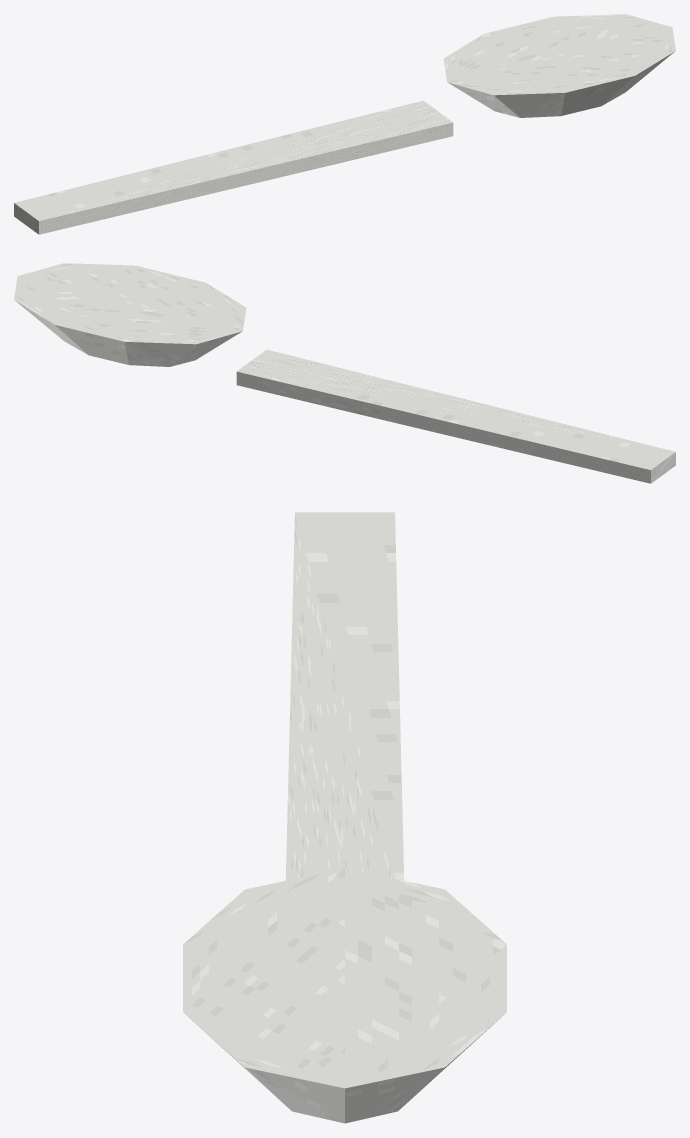
Rendered from plastic_spoon.glb.
3 renders of one model, top to bottom at view 1: azimuth 30°, elevation 25°; view 2: azimuth 150°, elevation 25°; view 3: azimuth 270°, elevation 25°, orthographic. The views are drawn at different scales.
Visible parts, largest first — view 1: block_bowl, block_handle; view 2: block_bowl, block_handle; view 3: block_bowl, block_handle.
Boxes of the visible parts, box(x1,y1,x2,y2) form: block_bowl: box(443, 14, 675, 117); block_handle: box(14, 100, 453, 234); block_bowl: box(14, 263, 246, 366); block_handle: box(236, 349, 675, 483); block_bowl: box(183, 868, 506, 1123); block_handle: box(285, 512, 404, 880).
Bounding box in the file's own units: 0.149 × 0.009 × 0.0323.
Materials: 1 (1 with a texture image).
